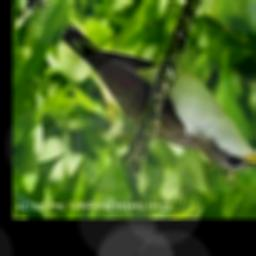Cuckoo: (26, 0, 256, 172)
